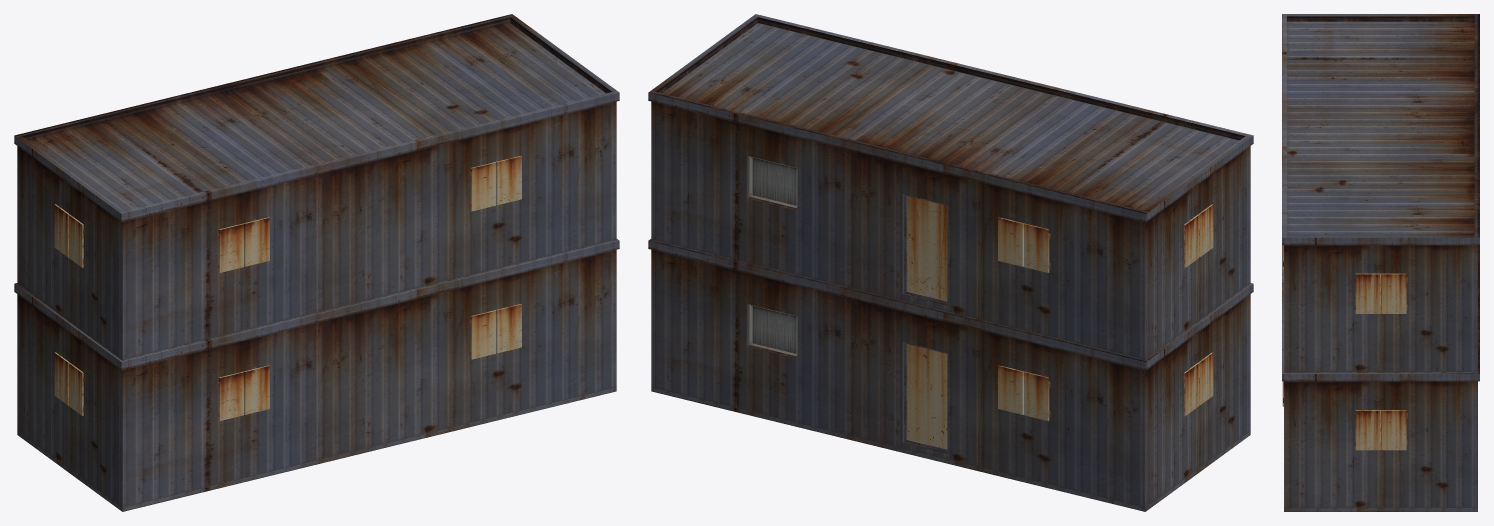
File: container_1_lod2.FBX
3 views of the same model, side by side, from view 1: azimuth 30°, elevation 25°; view 2: azimuth 150°, elevation 25°; view 3: azimuth 270°, elevation 25° (orthographic). The views are drawn at different scales.
Visible parts, largest first — view 1: Mesh Object; view 2: Mesh Object; view 3: Mesh Object.
Boxes of the visible parts, x1,y1,x2,y2 form: Mesh Object: (14,14,619,511); Mesh Object: (648,14,1253,511); Mesh Object: (1282,14,1479,511).
Bounding box in the file's own units: 10.88 × 6.24 × 4.07.
